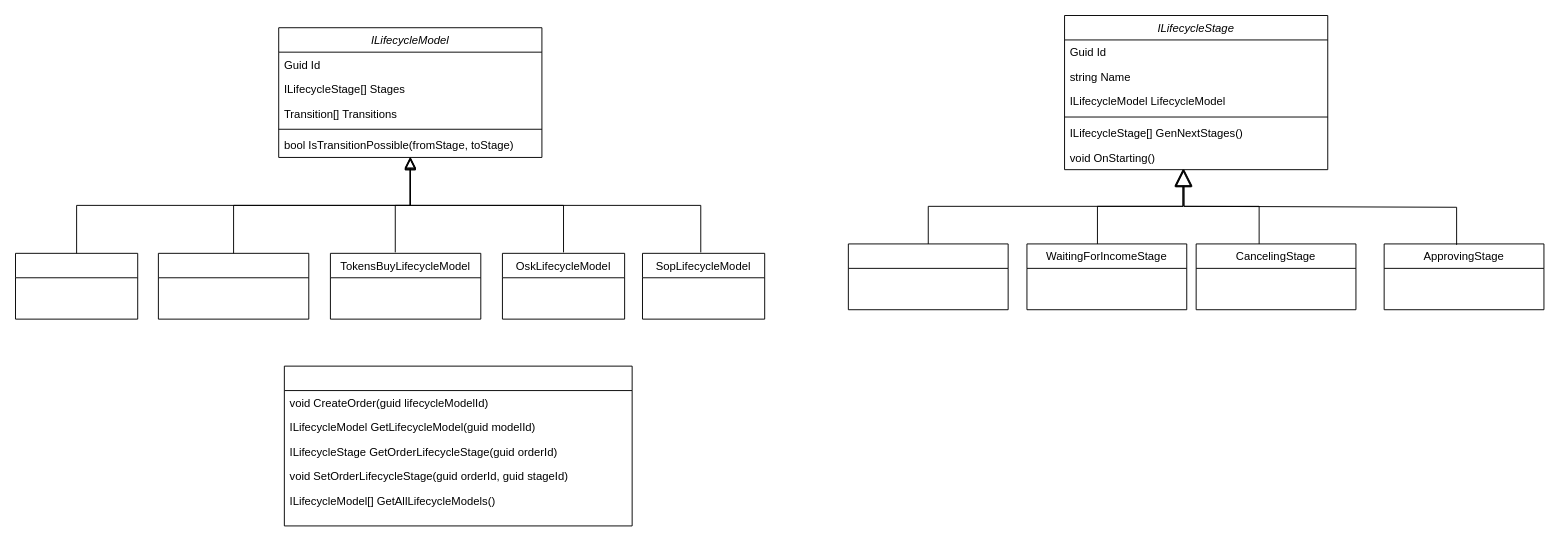
This 1559x541 diagram has some shape labels left out. The box of each missing label's shape, as (x1, y1, x2, y2) in pixels:
InProcessStage: (847, 243, 1008, 310)
IOrderLifecycleService: (283, 365, 632, 526)
KktLifecycleModel: (15, 252, 138, 319)
TokensLifecycleModel: (157, 252, 309, 319)
